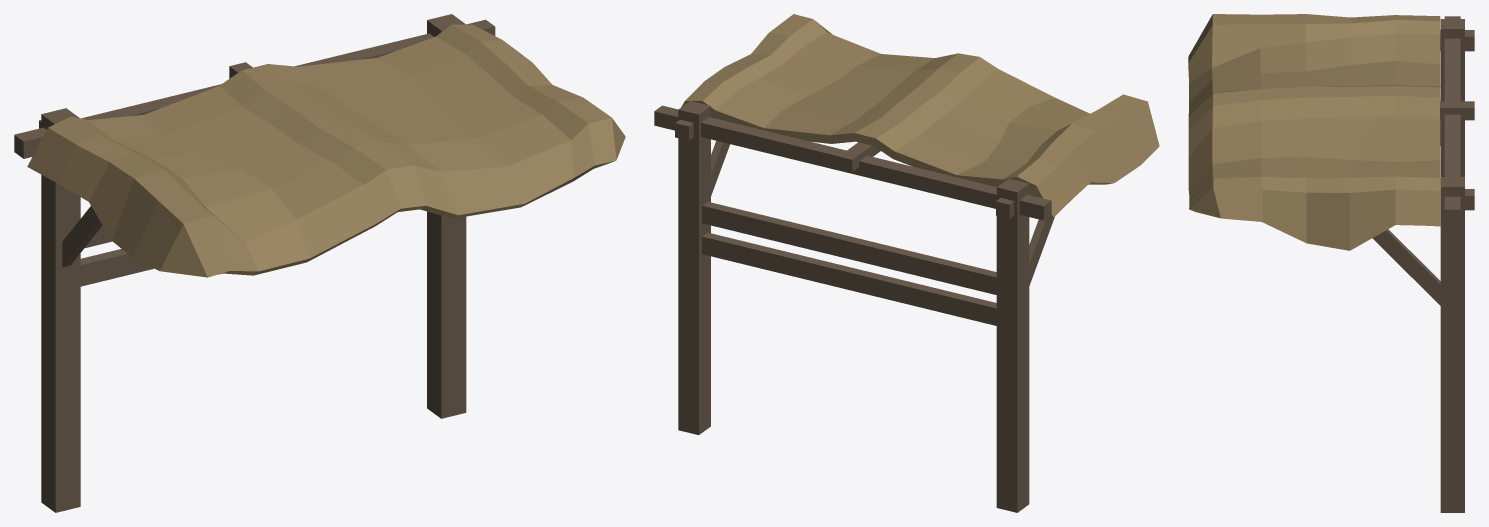
The model's file is SM_Prop_StallCover_01.glb.
3 views of the same model, side by side, from view 1: azimuth 30°, elevation 25°; view 2: azimuth 150°, elevation 25°; view 3: azimuth 270°, elevation 25° (orthographic). The views are drawn at different scales.
Parts seen in each view (by area): view 1: SM_Prop_StallCover_01; view 2: SM_Prop_StallCover_01; view 3: SM_Prop_StallCover_01.
Boxes of the visible parts, x1=… form: SM_Prop_StallCover_01: x1=14, y1=14, x2=625, y2=512; SM_Prop_StallCover_01: x1=654, y1=14, x2=1159, y2=512; SM_Prop_StallCover_01: x1=1188, y1=14, x2=1474, y2=512.
Bounding box in the file's own units: 0.0274 × 0.022 × 0.0172.
